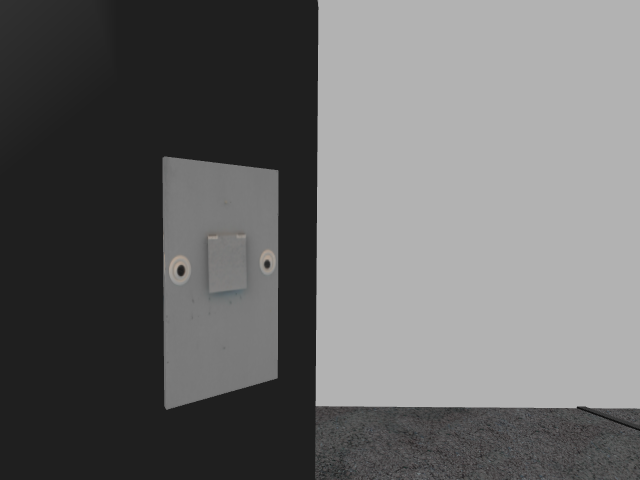facade: (167, 233, 276, 295)
